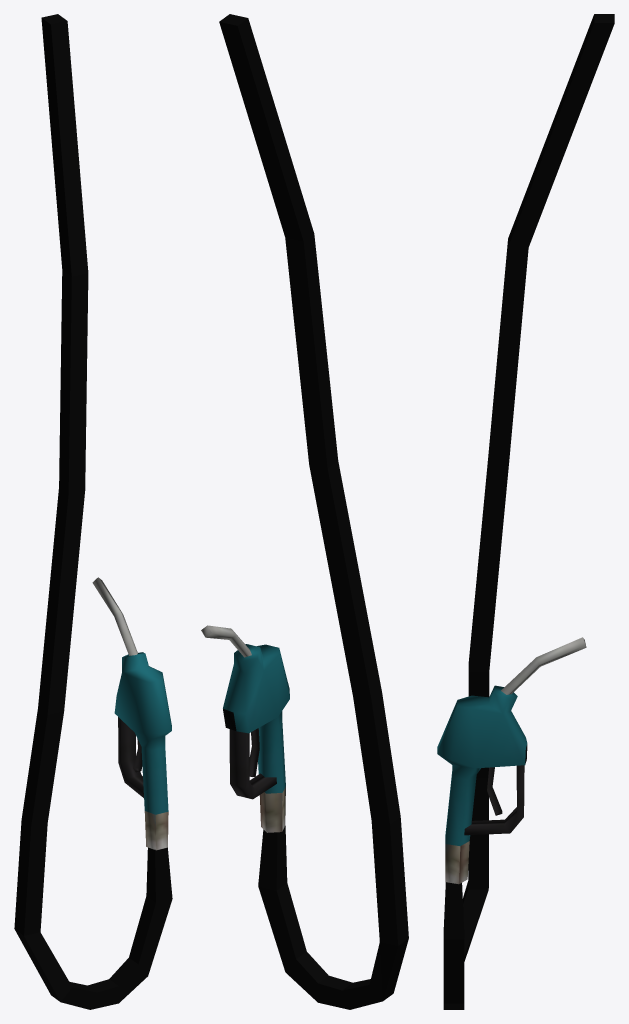
Rendered from grab_onpump.obj.
The picture shows the model from 3 angles, left to right: view 1: azimuth 30°, elevation 25°; view 2: azimuth 150°, elevation 25°; view 3: azimuth 270°, elevation 25°; orthographic projection. The views are drawn at different scales.
Parts seen in each view (by area): view 1: Cube; view 2: Cube; view 3: Cube.
Boxes of the visible parts, left/top/right/bottom form: Cube: left=14, top=14, right=172, bottom=1009; Cube: left=201, top=14, right=408, bottom=1009; Cube: left=437, top=14, right=614, bottom=1009.
Bounding box in the file's own units: 1.16 × 7.3 × 1.18.
Materials: 1 (1 with a texture image).
